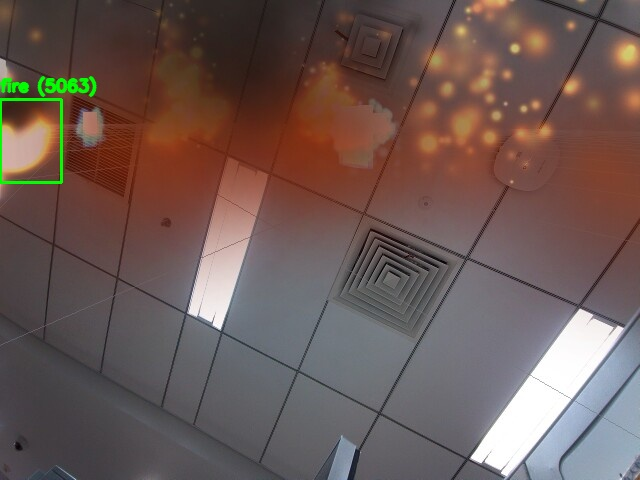fire: (0, 99, 61, 182)
